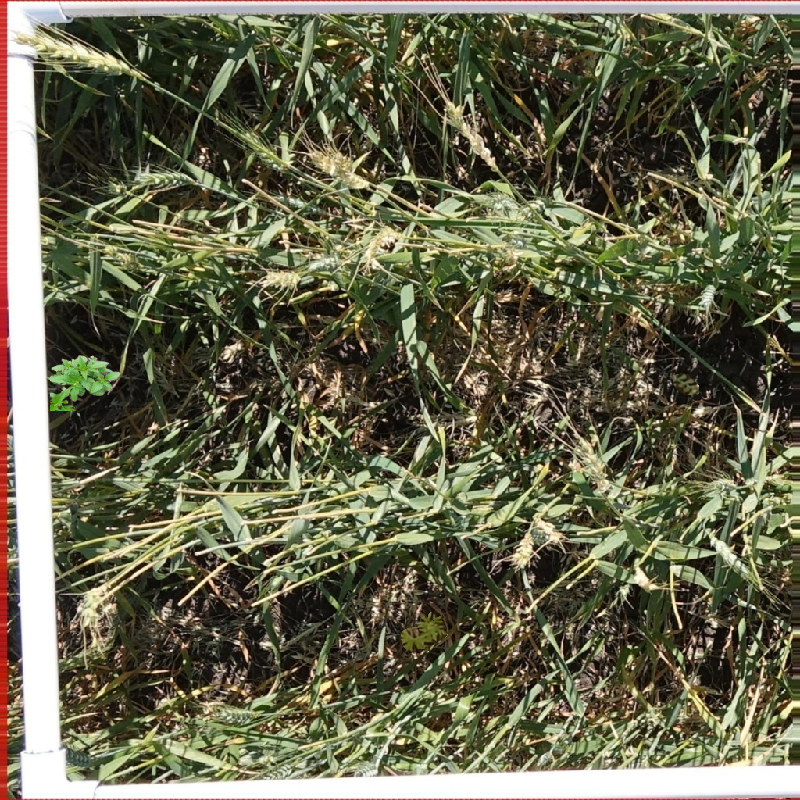spikelet: (13, 25, 139, 79), (441, 101, 498, 172), (308, 144, 369, 190), (238, 127, 291, 173), (574, 441, 610, 494), (130, 163, 195, 191), (512, 527, 534, 578), (208, 703, 257, 724), (535, 520, 564, 546)
weed: (50, 355, 121, 411), (401, 612, 447, 653), (673, 373, 699, 396)
